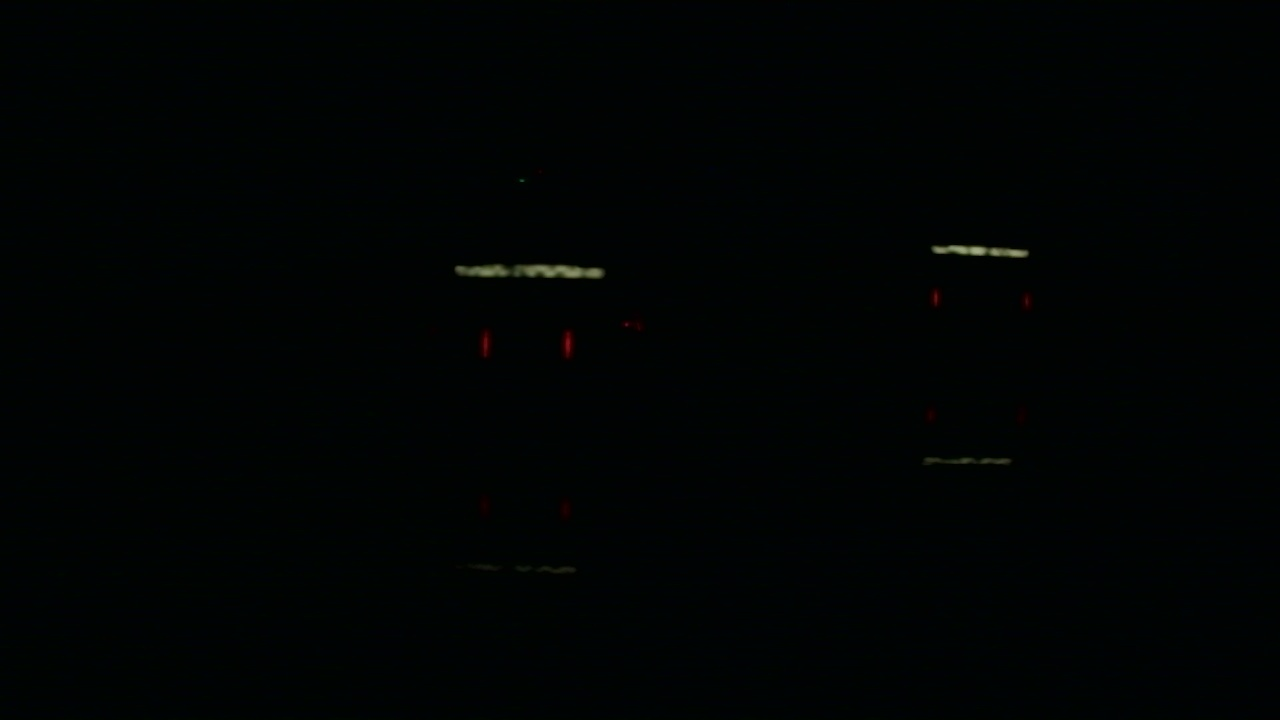lamp: (558, 330, 570, 355), (931, 284, 938, 307), (480, 332, 486, 356), (1028, 286, 1033, 305)
pair1: (481, 331, 572, 355)
pair2: (931, 287, 1034, 308)
